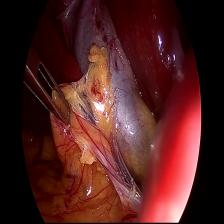Grasper: (19, 42, 74, 132)
